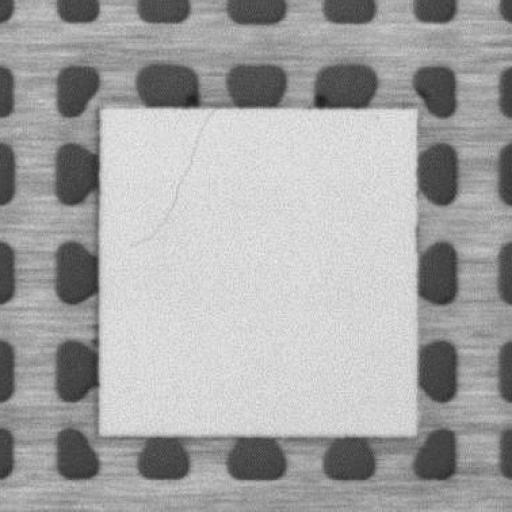DIE_CRACK: (128, 109, 220, 248)
